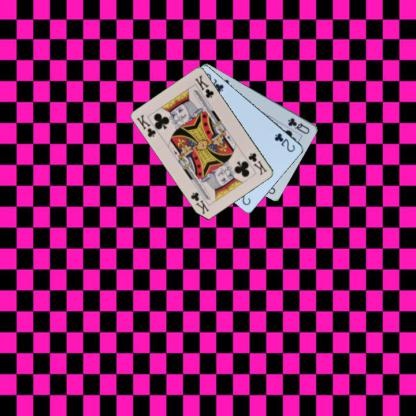2c: (272, 131, 296, 153)
Kc: (134, 112, 158, 139), (246, 150, 268, 176)
Qc: (285, 115, 311, 135)
